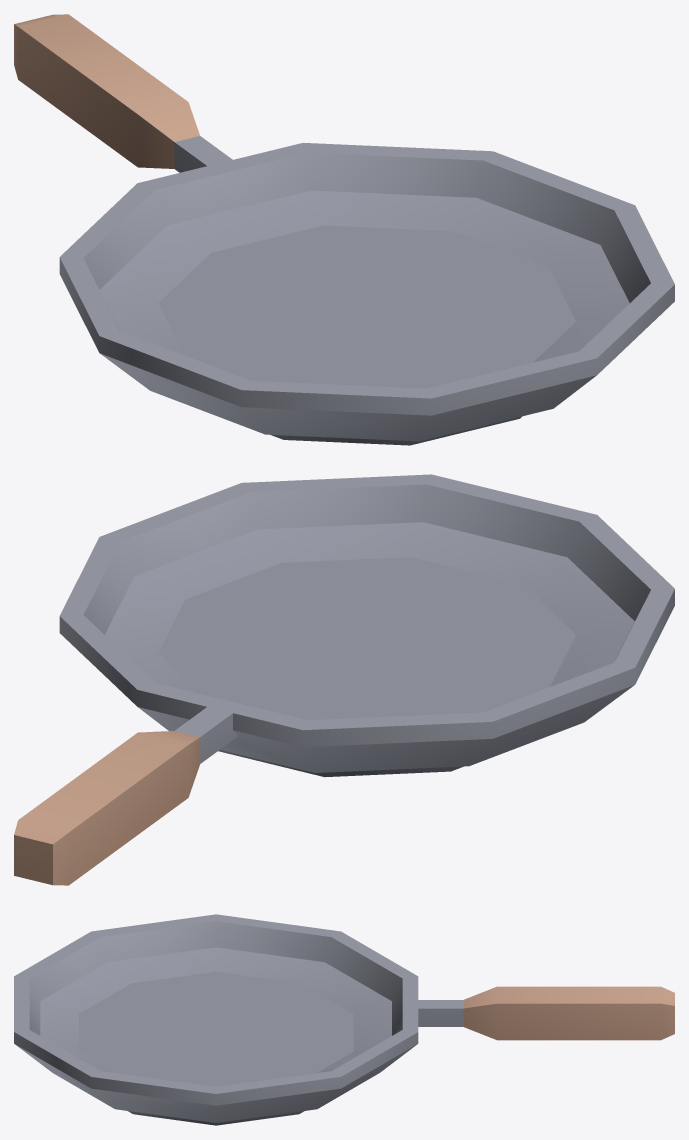
Rendered from frying-pan.glb.
The picture shows the model from 3 angles, top to bottom: view 1: azimuth 30°, elevation 25°; view 2: azimuth 150°, elevation 25°; view 3: azimuth 270°, elevation 25°; orthographic projection. The views are drawn at different scales.
Visible parts, largest first — view 1: frying-pan; view 2: frying-pan; view 3: frying-pan.
Part boxes in pixels (left/top/right/bottom): frying-pan: left=14, top=14, right=674, bottom=445; frying-pan: left=14, top=474, right=674, bottom=885; frying-pan: left=14, top=914, right=674, bottom=1125.
Size of the model in its own units: 0.6574 by 0.1206 by 1.02.
